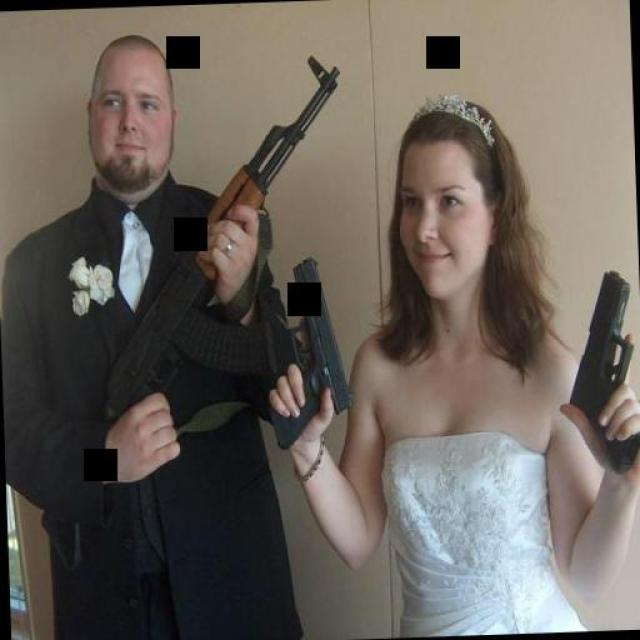gun: (260, 248, 356, 458), (561, 265, 640, 474)
